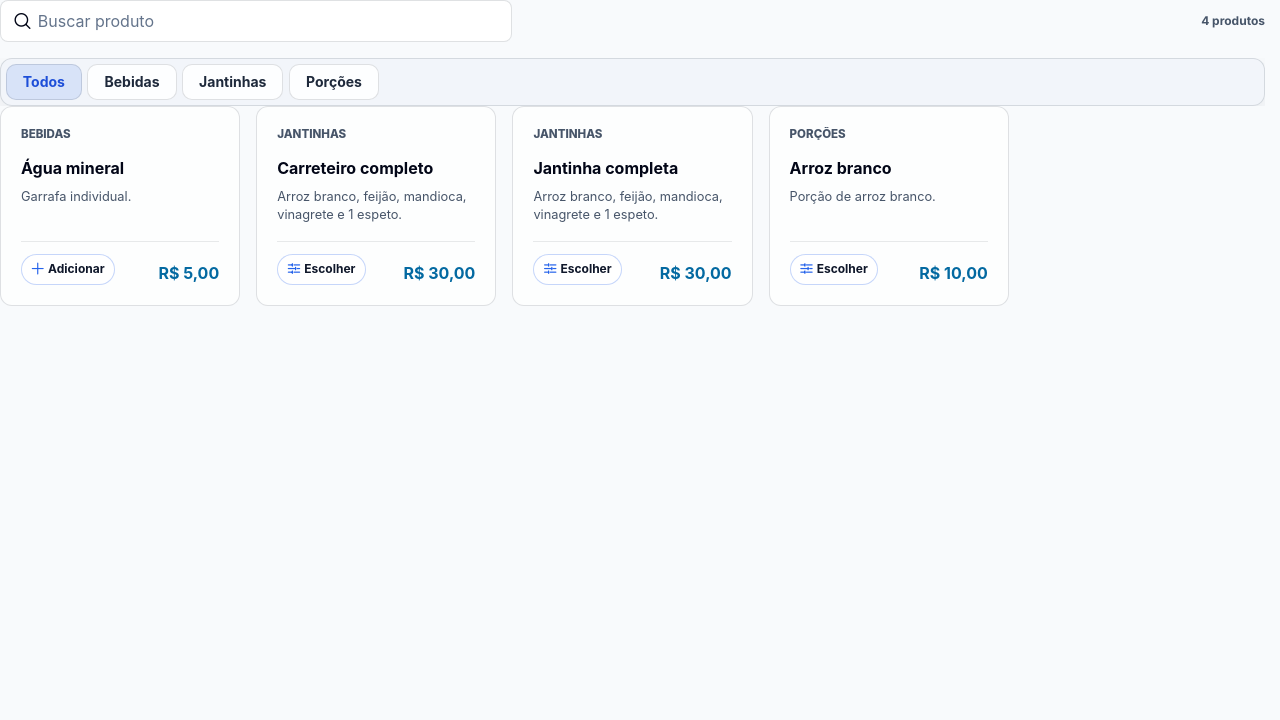
SaleProductPickerComponent › shows final size prices in the rendered sale dialog
Click the 4th button with class "counter-product": (889, 206) [769,106,1009,306]
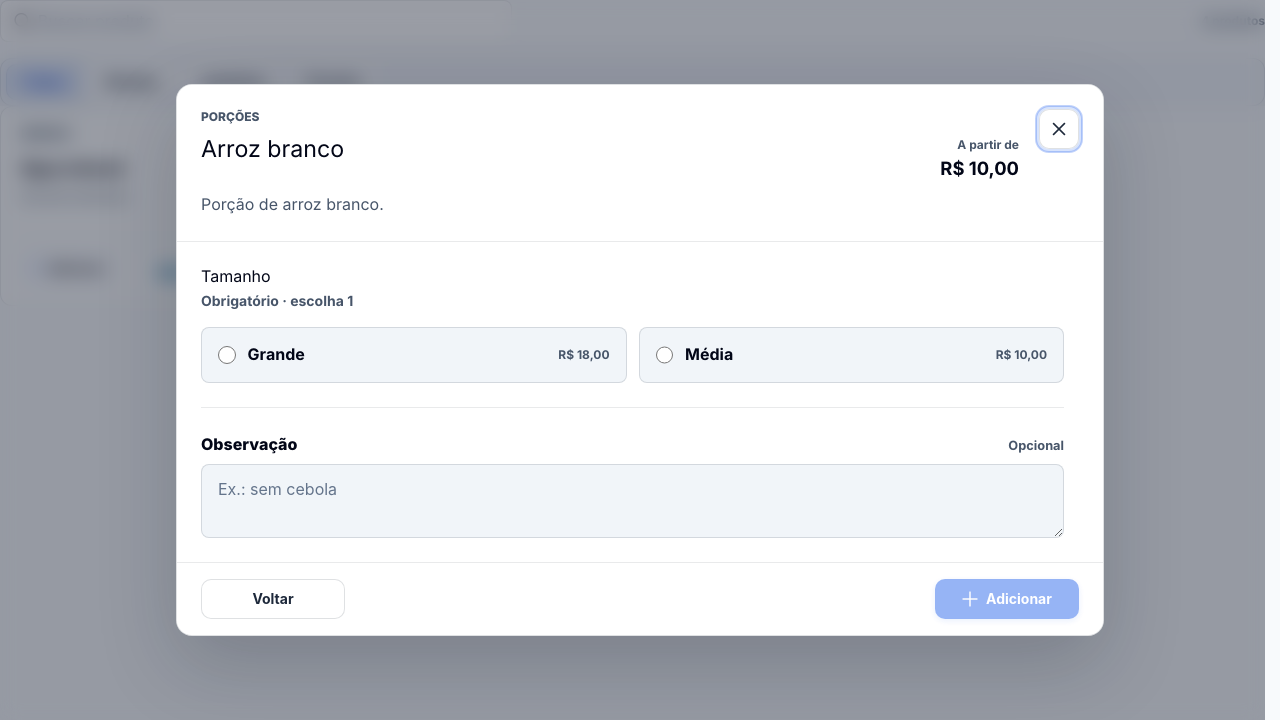
Expected: the dialog with class "choice-dialog" shows "Média", [685,344,733,364]
Expected: the dialog with class "choice-dialog" shows "R$ 10,00", [940,158,1019,180]
Expected: the dialog with class "choice-dialog" shows "Grande", [248,344,305,364]
